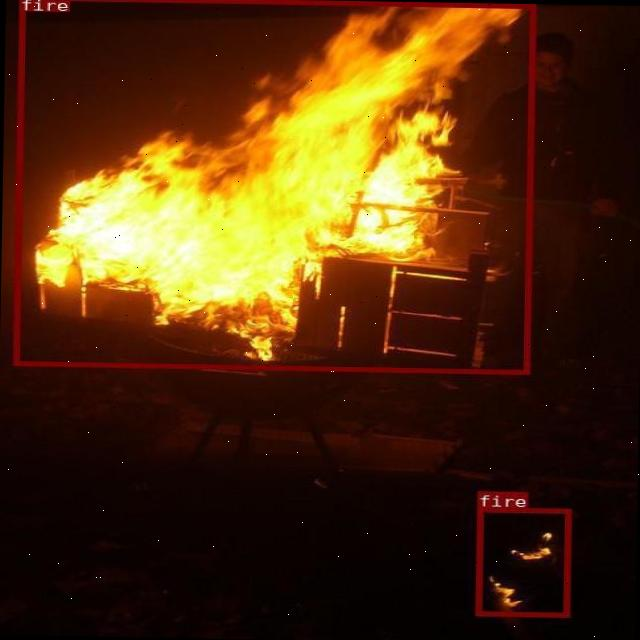fire: (12, 0, 534, 373), (474, 506, 570, 616)
